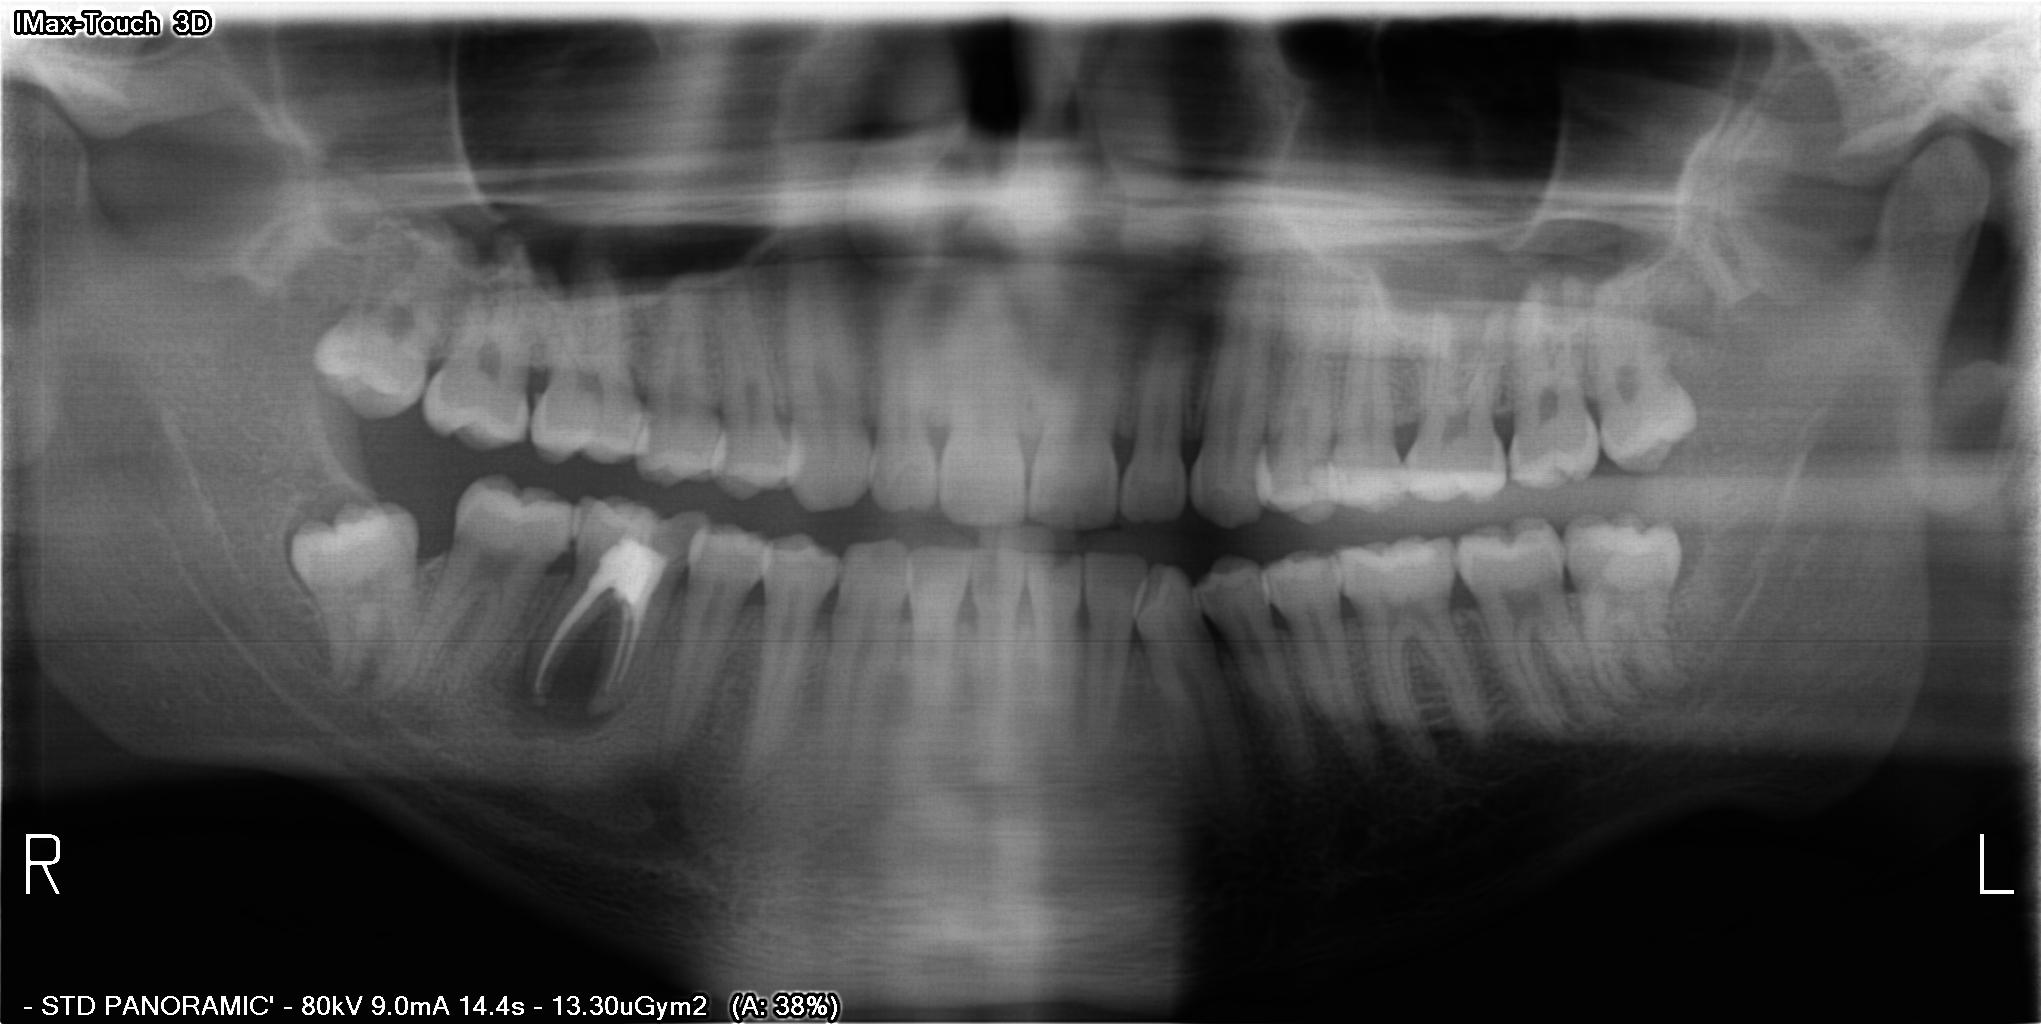Çürük Bölgesi: (652, 512, 704, 572)
